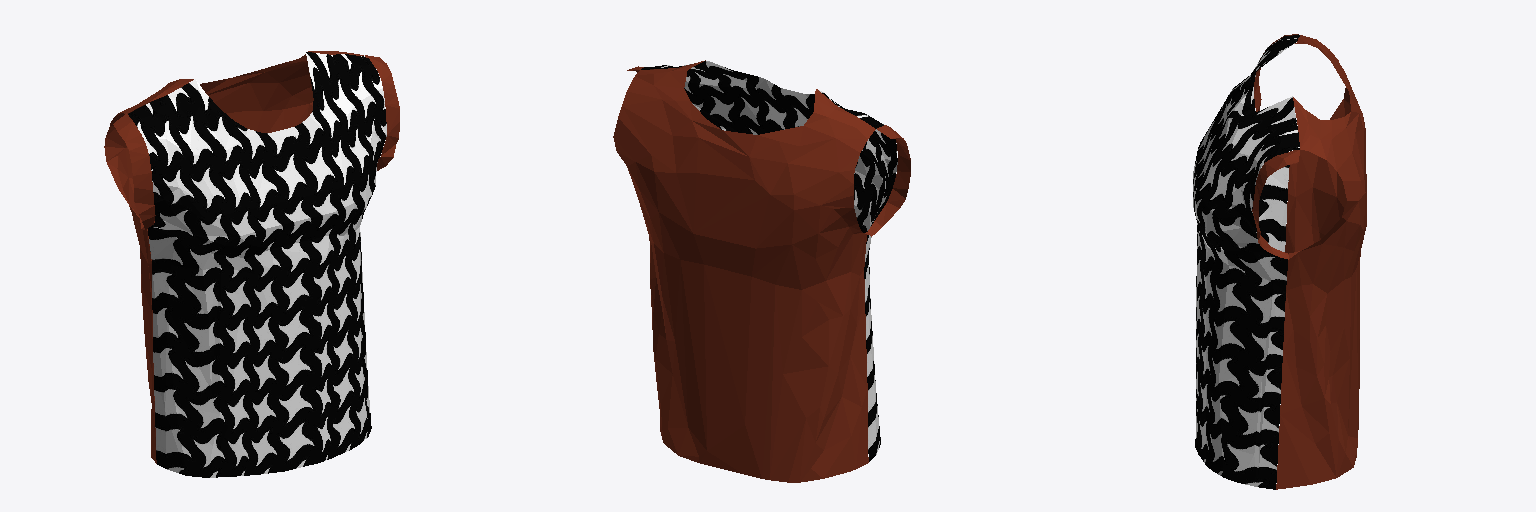
The picture shows the model from 3 angles: view 1: azimuth 30°, elevation 25°; view 2: azimuth 150°, elevation 25°; view 3: azimuth 270°, elevation 25°; orthographic projection.
Visible parts, largest first — view 1: T_shirt.007; view 2: T_shirt.007; view 3: T_shirt.007.
Part boxes in pixels (left/top/right/bottom): T_shirt.007: left=104, top=51, right=399, bottom=477; T_shirt.007: left=613, top=60, right=910, bottom=482; T_shirt.007: left=1193, top=34, right=1366, bottom=489.
Size of the model in its own units: 0.2935 by 0.3892 by 0.1639.
2 materials, 1 textured.